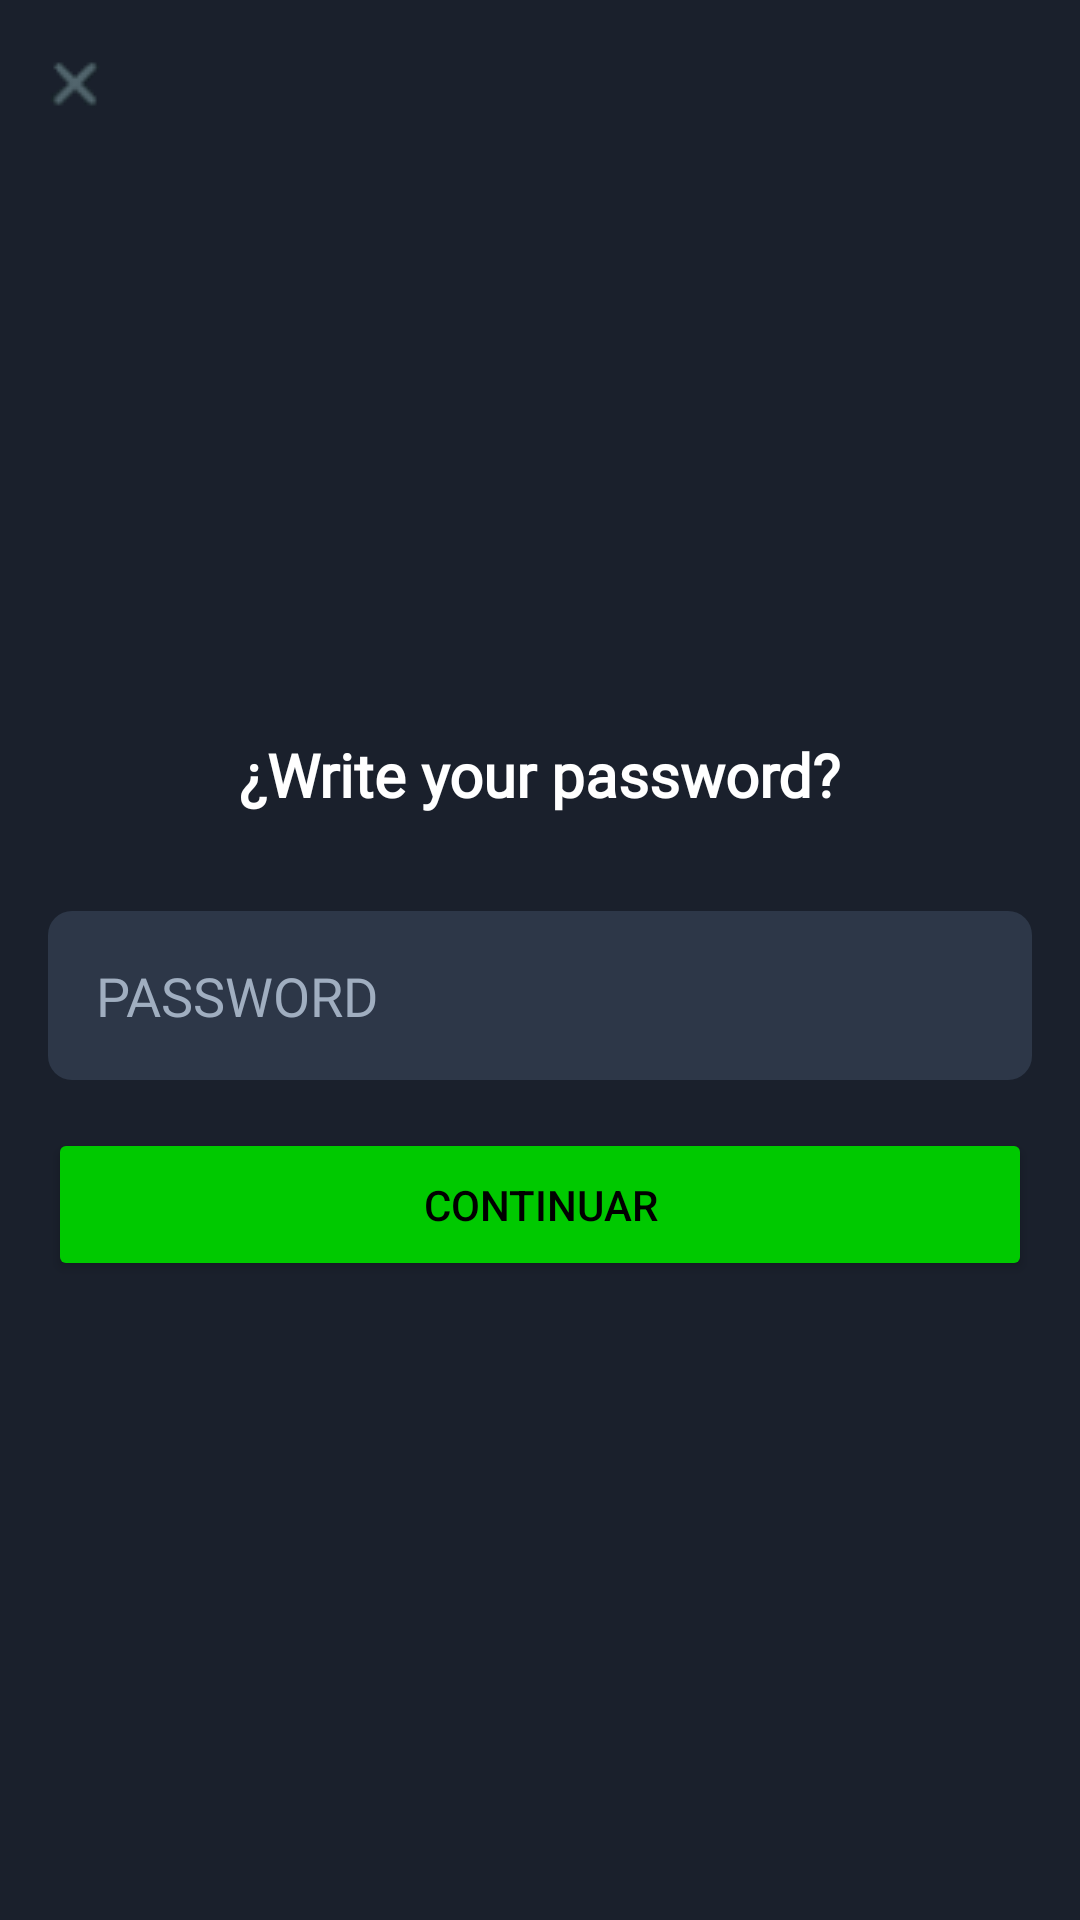

Icon bounding boxes for this 1080*1920 phone screenshot, format (x1, y1, x2, y2):
Cerrar: (54, 63, 96, 105)
